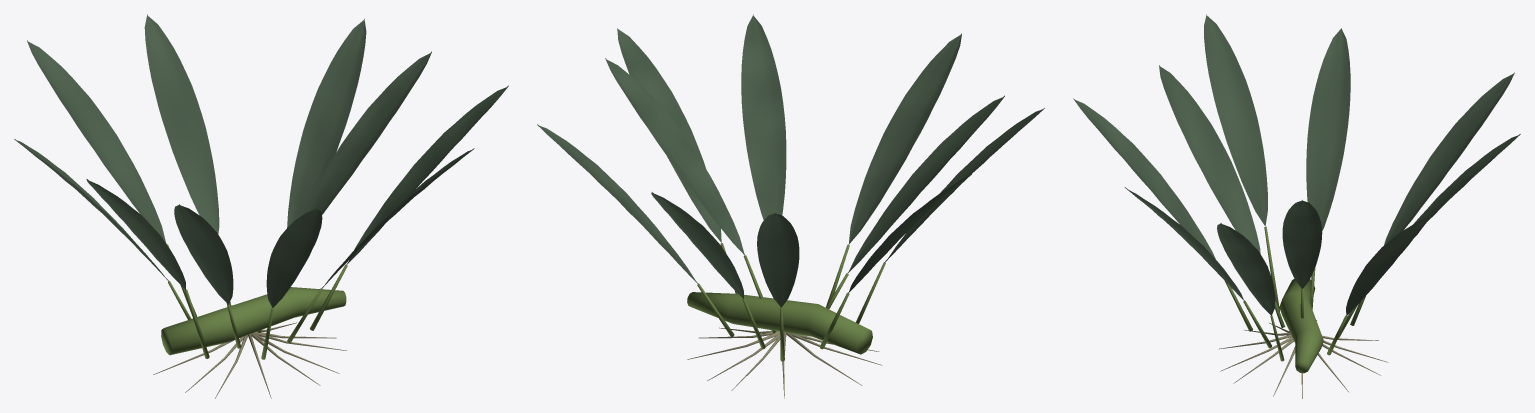
File: buce-mobile.glb
3 renders of one model, left to right at view 1: azimuth 30°, elevation 25°; view 2: azimuth 150°, elevation 25°; view 3: azimuth 270°, elevation 25°, orthographic. The views are drawn at different scales.
Parts seen in each view (by area): view 1: blade, creeping-rhizome, anchoring-root, petiole; view 2: blade, creeping-rhizome, petiole, anchoring-root; view 3: blade, creeping-rhizome, petiole, anchoring-root.
Part boxes in pixels (box(x1,y1,x2,y2)): blade: box(14, 14, 508, 307); creeping-rhizome: box(161, 287, 346, 355); anchoring-root: box(153, 322, 346, 398); petiole: box(167, 244, 347, 359); blade: box(537, 14, 1044, 307); creeping-rhizome: box(687, 292, 872, 354); petiole: box(697, 243, 885, 361); anchoring-root: box(687, 327, 882, 398); blade: box(1073, 14, 1520, 315); creeping-rhizome: box(1279, 279, 1323, 373); petiole: box(1225, 226, 1365, 361); anchoring-root: box(1219, 320, 1388, 398).
Bounding box in the file's own units: 0.6317 × 0.3816 × 0.6198.
